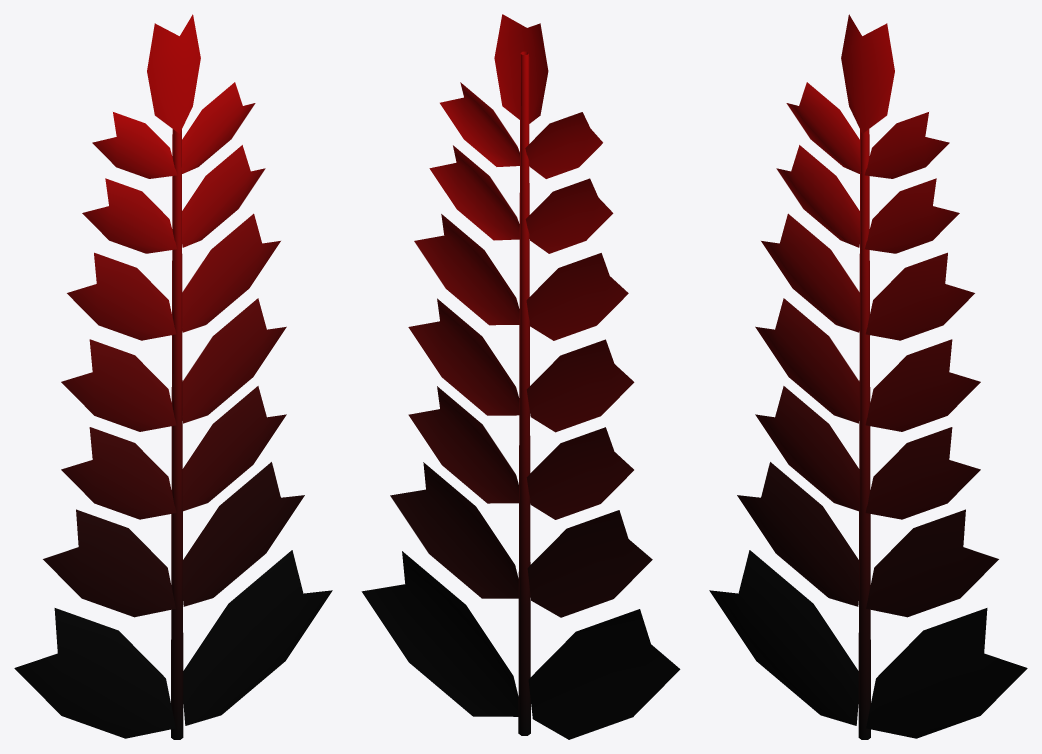
The model's file is Fern.fbx.
3 renders of one model, left to right at view 1: azimuth 30°, elevation 25°; view 2: azimuth 150°, elevation 25°; view 3: azimuth 330°, elevation 25°, orthographic.
Parts seen in each view (by area): view 1: Fern; view 2: Fern; view 3: Fern.
Boxes of the visible parts, <box> form: Fern: <box>14,14,332,739</box>; Fern: <box>361,14,680,739</box>; Fern: <box>709,14,1027,739</box>.
Bounding box in the file's own units: 27.31 × 58.68 × 1.06.
